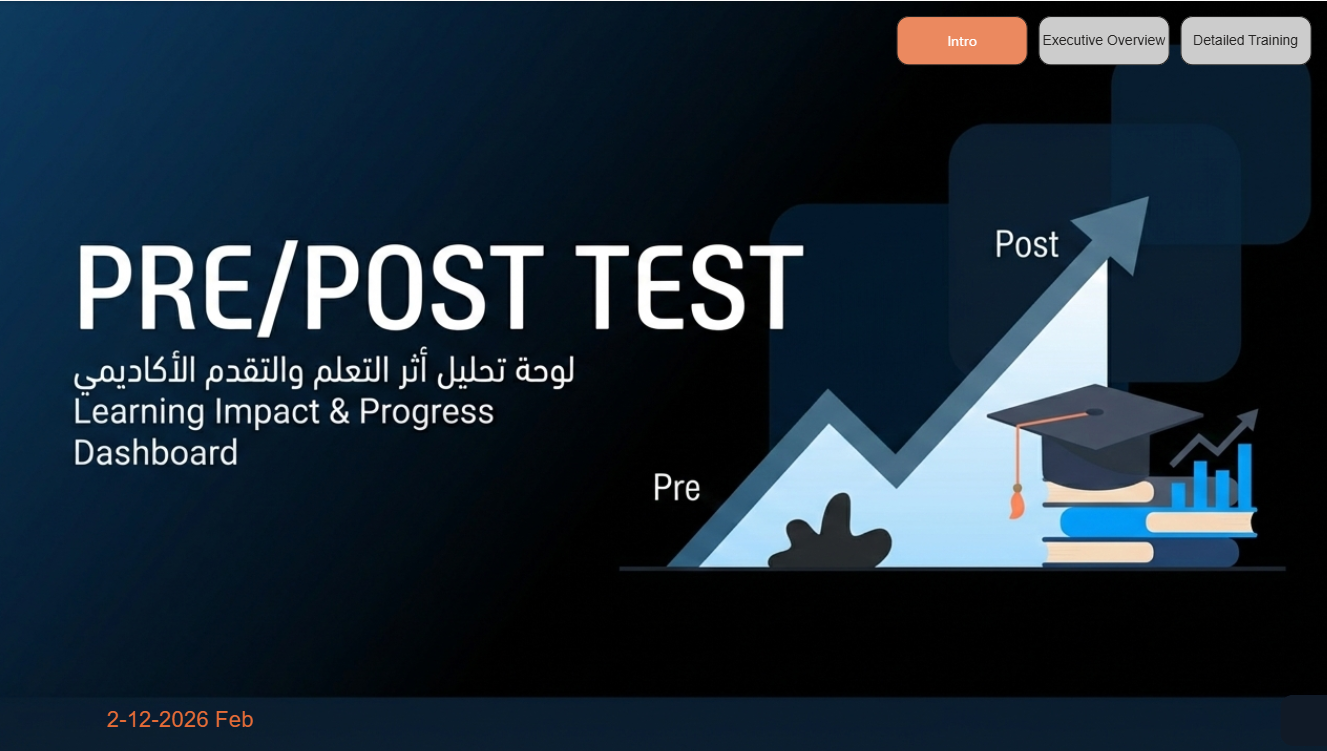

Layout of this report page (visuals, bound fields, positions):
{"tool":"powerbi","page":{"name":"Intro","canvas":[1280,720],"ordinal":0},"visuals":[{"type":"shape","box":[1220.2,660.7,59.5,48.8],"z":0},{"type":"pageNavigator","box":[854.8,14.3,395.2,47.6],"z":1},{"type":"textbox","box":[97.6,667.9,300,34.5],"z":2}]}

Visuals, with their boxes in screenshot pixels (x1, y1, x2, y2), scaled from the page's 1280x720 canvas onto the 1327x751 screenshot:
shape: box=[1265, 689, 1326, 740]
pageNavigator: box=[886, 15, 1296, 65]
textbox: box=[101, 697, 412, 733]
